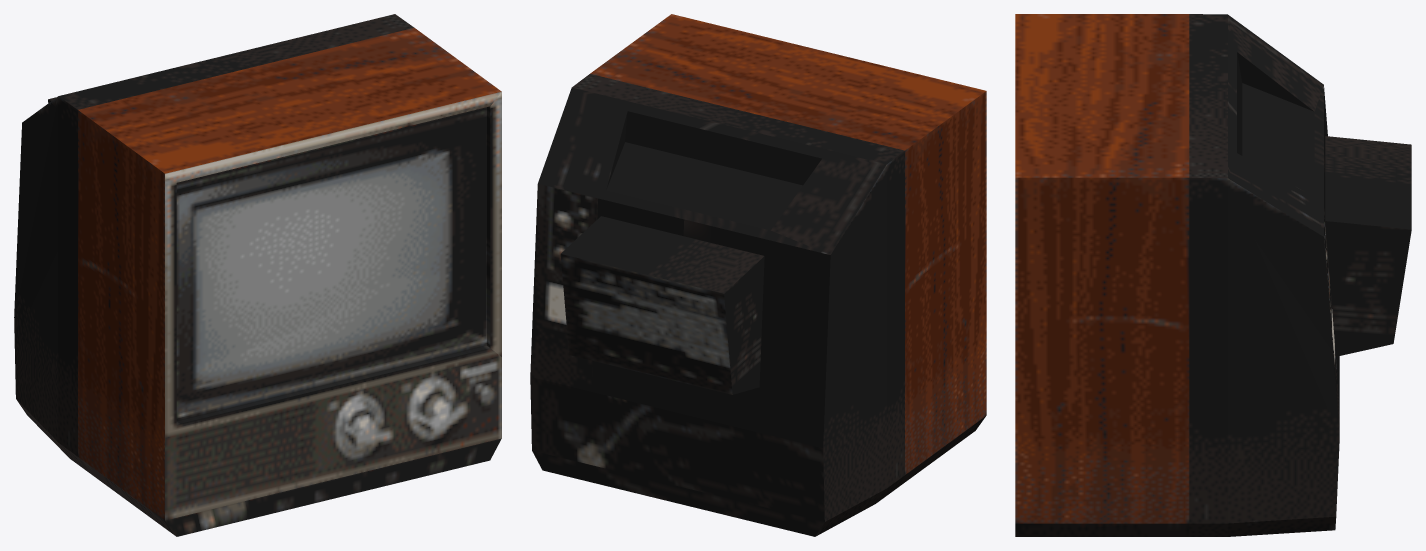
File: Television.fbx
3 renders of one model, left to right at view 1: azimuth 30°, elevation 25°; view 2: azimuth 150°, elevation 25°; view 3: azimuth 270°, elevation 25°, orthographic. The views are drawn at different scales.
Parts seen in each view (by area): view 1: Televisi; view 2: Televisi; view 3: Televisi.
Boxes of the visible parts, x1,y1,x2,y2 form: Televisi: (14, 14, 501, 536); Televisi: (530, 14, 986, 536); Televisi: (1015, 14, 1411, 536).
Size of the model in its own units: 147 by 153 by 150.
Materials: 1 (1 with a texture image).
